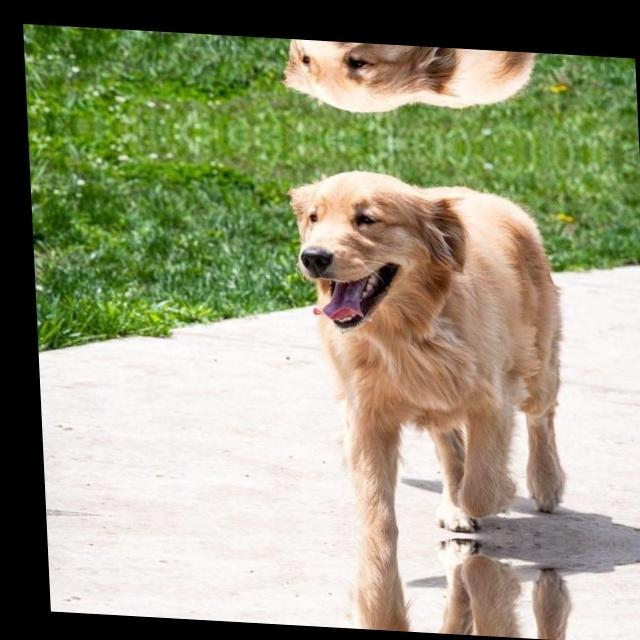dog: (282, 164, 576, 542), (300, 526, 580, 640), (276, 39, 556, 124)
